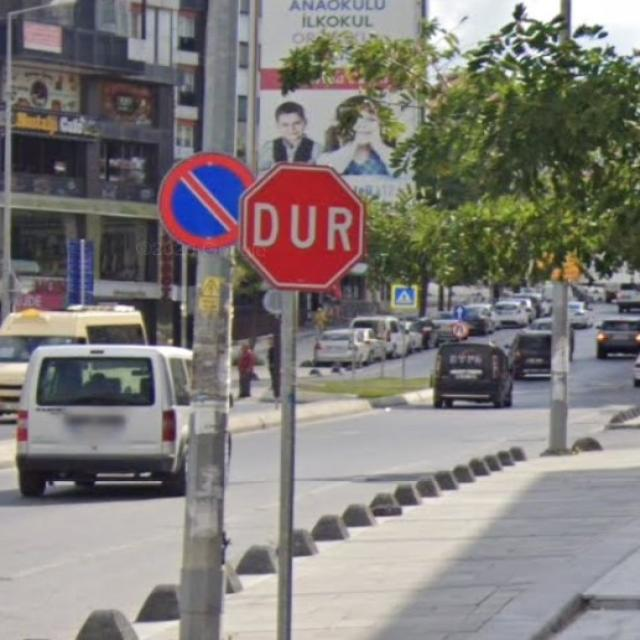dur: (240, 164, 364, 290)
parkyasak: (160, 152, 250, 251)
